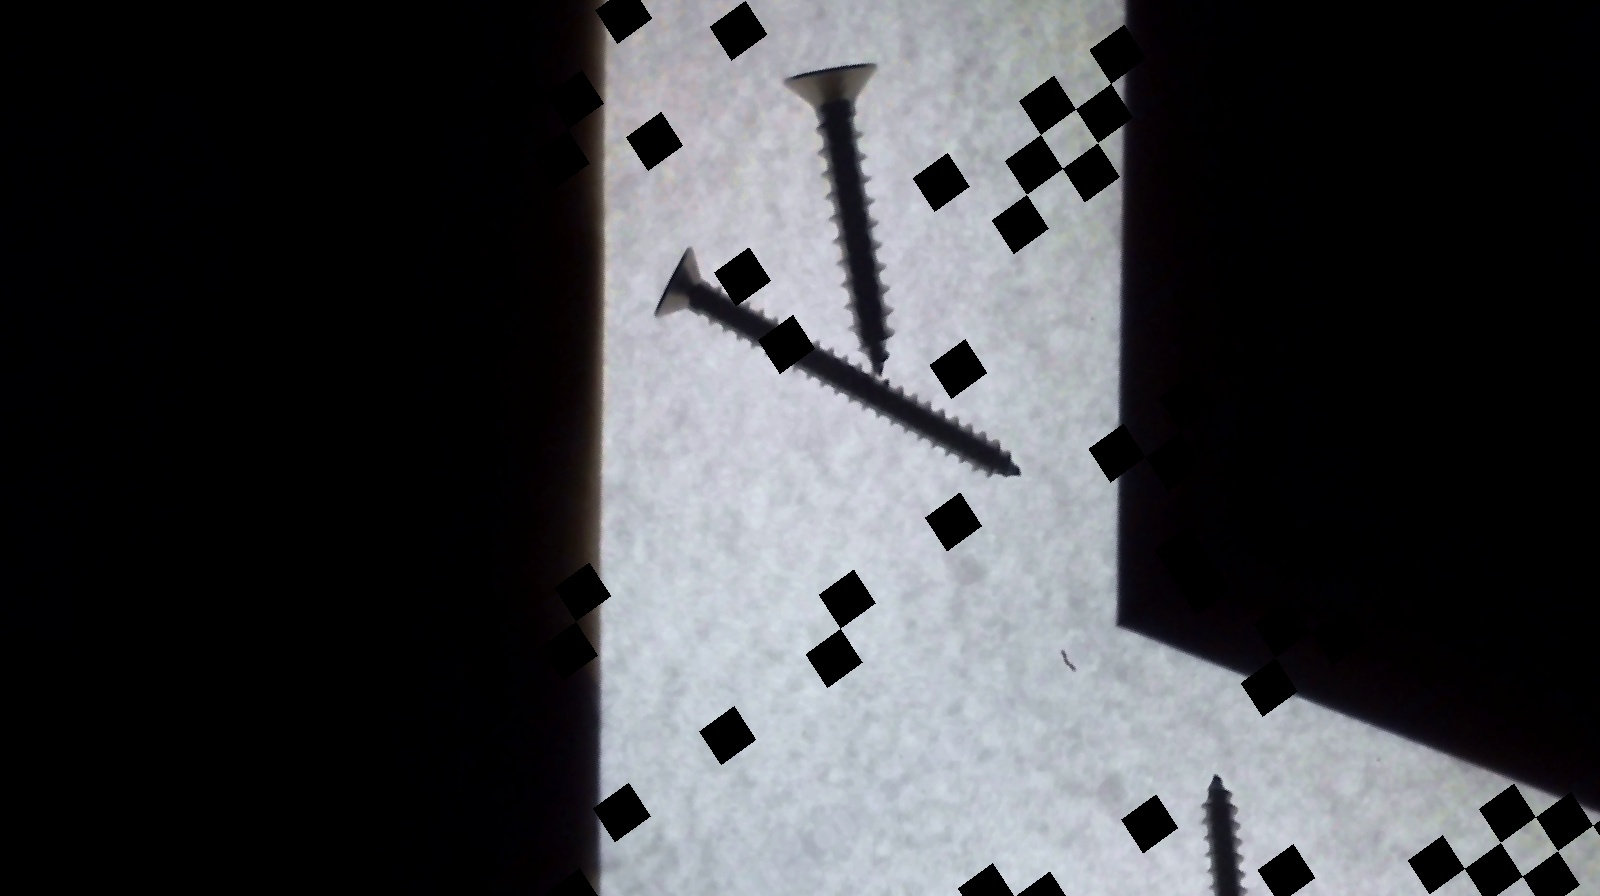S001: (710, 24, 1014, 380)
S002: (627, 139, 1036, 613)
